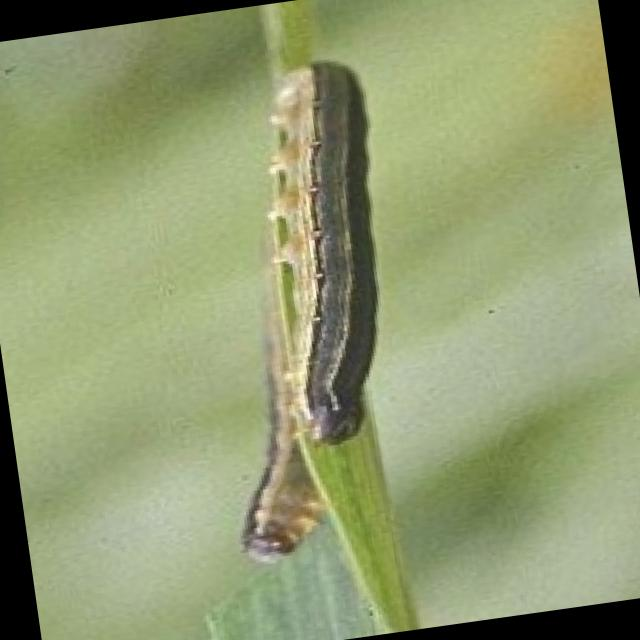armyworm: (234, 54, 428, 464), (197, 285, 335, 579)
